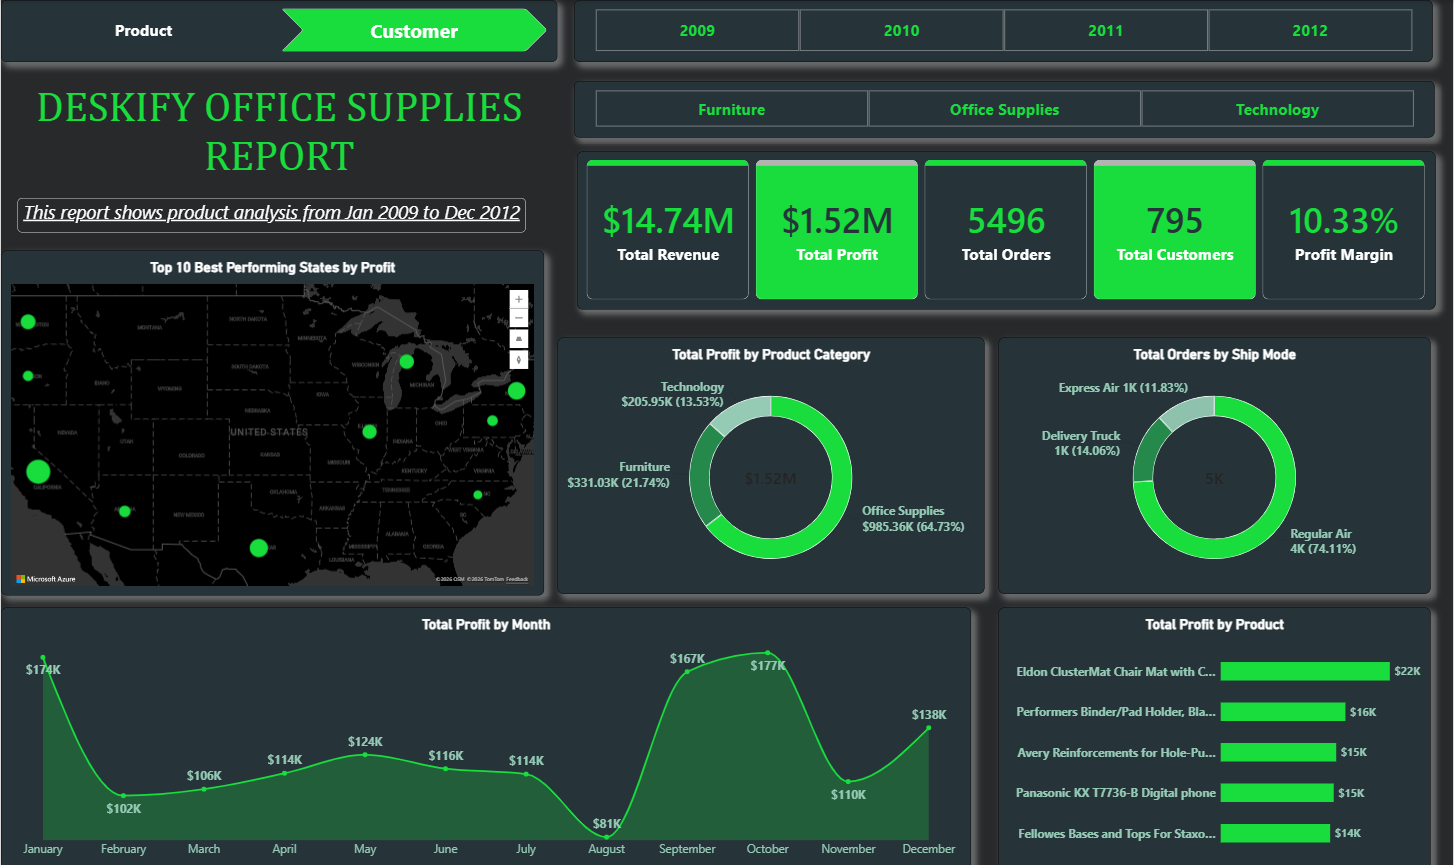

Layout of this report page (visuals, bound fields, positions):
{"tool":"powerbi","page":{"name":"Product","canvas":[2500,1500],"ordinal":0},"visuals":[{"type":"cardVisual","fields":{"Data":["Calculated Measures.Total Revenue","Calculated Measures.Total Profit","Calculated Measures.Total Orders","Calculated Measures.Total Customers","Calculated Measures.Profit Margin"]},"box":[990.7,260.3,1478.7,272.1],"z":0},{"type":"azureMap","title":"Top 10 Best Performing States by Profit","fields":{"Category":["Location Dim.State"],"Size":["Calculated Measures.Total Profit"]},"box":[0,432.4,935.3,594.1],"z":1},{"type":"donutChart","fields":{"Category":["Product Dim.Product Category"],"Y":["Calculated Measures.Total Profit"]},"box":[958.8,582.4,735.3,441.2],"z":2},{"type":"donutChart","fields":{"Category":["Order Dim.Ship Mode"],"Y":["Calculated Measures.Total Orders"]},"box":[1717.6,582.4,744.1,441.2],"z":3},{"type":"clusteredBarChart","title":"Total Profit by Product","fields":{"Category":["Product Dim.Product Name"],"Y":["Calculated Measures.Total Profit"]},"box":[1717.6,1047.1,744.1,452.9],"z":4},{"type":"areaChart","title":"Total Profit by Month","fields":{"Category":["Calendar Dim.Month Name"],"Y":["Calculated Measures.Total Profit"]},"box":[0,1047.1,1670.6,452.9],"z":5},{"type":"slicer","fields":{"Values":["Calendar Dim.Year"]},"box":[987.8,0,1478.7,106.5],"z":6},{"type":"slicer","fields":{"Values":["Product Dim.Product Category"]},"box":[987.8,139,1481.7,97.6],"z":7},{"type":"pageNavigator","box":[0,0,958.2,106.5],"z":8},{"type":"textbox","box":[0,139,958.2,174.5],"z":9},{"type":"textbox","box":[29.6,340.1,875.4,59.1],"z":10}]}

Visuals, with their boxes in screenshot pixels (x1, y1, x2, y2), scaled from the page's 2500x1500 canvas onto the 1454x865 screenshot:
cardVisual - Calculated Measures.Total Revenue x Calculated Measures.Total Profit: {"left": 576, "top": 150, "right": 1436, "bottom": 307}
"Top 10 Best Performing States by Profit" azureMap: {"left": 0, "top": 249, "right": 544, "bottom": 592}
donutChart - Product Dim.Product Category x Calculated Measures.Total Profit: {"left": 558, "top": 336, "right": 985, "bottom": 590}
donutChart - Order Dim.Ship Mode x Calculated Measures.Total Orders: {"left": 999, "top": 336, "right": 1432, "bottom": 590}
"Total Profit by Product" clusteredBarChart: {"left": 999, "top": 604, "right": 1432, "bottom": 864}
"Total Profit by Month" areaChart: {"left": 0, "top": 604, "right": 972, "bottom": 864}
slicer - Calendar Dim.Year: {"left": 575, "top": 0, "right": 1435, "bottom": 61}
slicer - Product Dim.Product Category: {"left": 575, "top": 80, "right": 1436, "bottom": 136}
pageNavigator: {"left": 0, "top": 0, "right": 557, "bottom": 61}
textbox: {"left": 0, "top": 80, "right": 557, "bottom": 181}
textbox: {"left": 17, "top": 196, "right": 526, "bottom": 230}
